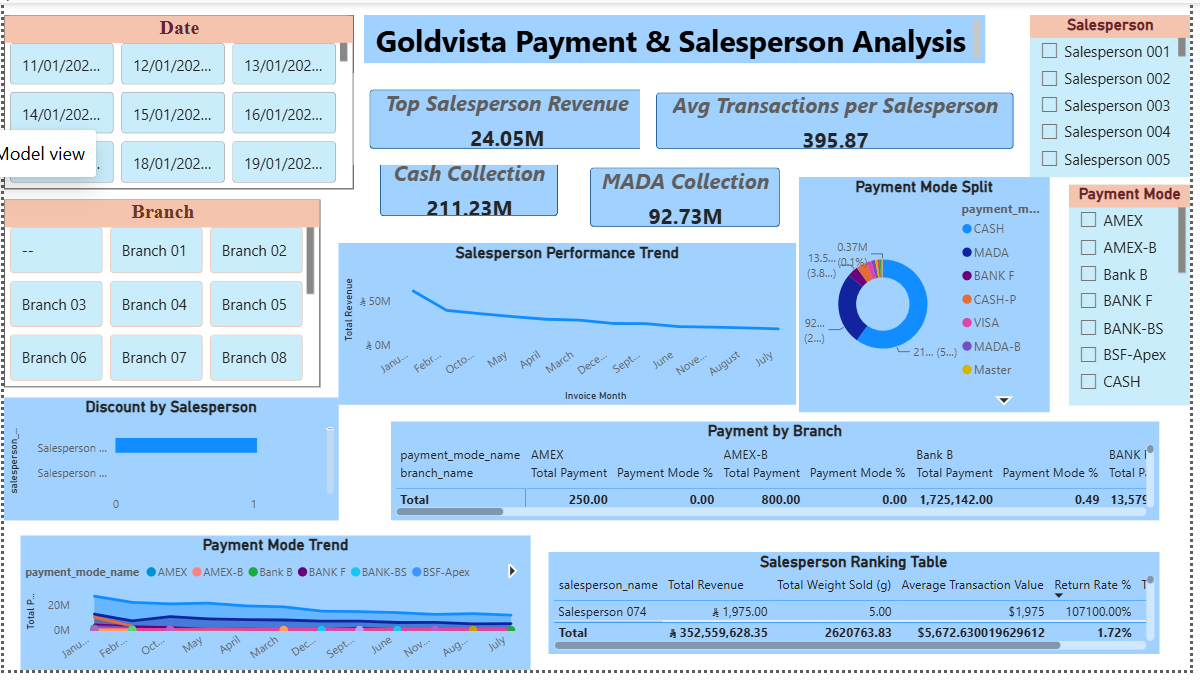

This screenshot's page, from the dashboard's own definition file:
{"tool":"powerbi","page":{"name":"Payment & Salesperson Analysis","canvas":[1280,720],"ordinal":5},"visuals":[{"type":"textbox","box":[388.6,13,670.4,51.8],"z":0},{"type":"donutChart","title":"Payment Mode Split","fields":{"Category":["public dim_payment_mode.payment_mode_name"],"Y":["Customer Purchase Distribution.Total Payment"]},"box":[858.2,187.8,270.4,254.2],"z":1000},{"type":"pivotTable","title":"Payment by Branch","fields":{"Rows":["public dim_branch.branch_name"],"Columns":["public dim_payment_mode.payment_mode_name"],"Values":["Customer Purchase Distribution.Total Payment","Customer First Purchase.Payment Mode %"]},"box":[417.8,451.8,829,106.9],"z":2000},{"type":"slicer","title":"Payment Mode","fields":{"Values":["public dim_payment_mode.payment_mode_name"]},"box":[1149.7,195.9,131.2,238],"z":3000},{"type":"areaChart","title":"Payment Mode Trend","fields":{"Series":["public dim_payment_mode.payment_mode_name"],"Y":["Customer Purchase Distribution.Total Payment"],"Category":["public fact_sales.Invoice Month"]},"box":[17.8,574.8,550.5,145.7],"z":4000},{"type":"tableEx","title":"Salesperson Ranking Table","fields":{"Values":["public dim_salesperson.salesperson_name","Date.Total Revenue","Date.Total Weight Sold (g)","Date.Average Transaction Value","Date.Return Rate %","Customer Purchase Distribution.Transaction Count"]},"box":[587.8,592.6,659,110.1],"z":5000},{"type":"lineChart","title":"Salesperson Performance Trend","fields":{"Y":["Date.Total Revenue"],"Category":["public fact_sales.Invoice Month"]},"box":[361.1,259.1,493.9,174.9],"z":6000},{"type":"clusteredBarChart","title":"Discount by Salesperson","fields":{"Y":["Customer Purchase Distribution.Average Discount %"],"Category":["public dim_salesperson.salesperson_name"]},"box":[0,425.9,361.1,132.8],"z":7000},{"type":"advancedSlicerVisual","title":"Branch","fields":{"Values":["public dim_branch.branch_name"]},"box":[0,212.1,341.7,202.4],"z":8000},{"type":"advancedSlicerVisual","fields":{"Values":["Date.Date"]},"box":[0,13,377.3,187.8],"z":9000},{"type":"slicer","title":"Salesperson","fields":{"Values":["public dim_salesperson.salesperson_name"]},"box":[1107.6,13,173.3,174.9],"z":10000},{"type":"cardVisual","fields":{"Data":["Customer Purchase Distribution.Cash Collection"]},"box":[388.6,153.8,226.7,93.9],"z":11000},{"type":"cardVisual","fields":{"Data":["Customer Purchase Distribution.MADA Collection"]},"box":[615.3,160.3,239.6,98.8],"z":12000},{"type":"cardVisual","fields":{"Data":["Customer Purchase Distribution.Top Salesperson Revenue"]},"box":[377.3,76.1,330.3,98.8],"z":13000},{"type":"cardVisual","fields":{"Data":["Customer Purchase Distribution.Avg Transactions per Salesperson"]},"box":[686.6,79.3,421,95.5],"z":14000}]}

Visuals, with their boxes on the page's 1280x720 design canvas (x1, y1, x2, y2). These are canvas units, not pixel positions in the 1200x681 screenshot, which may show the page scaled, cropped or inside an application window:
textbox: select_region(389, 13, 1059, 65)
"Payment Mode Split" donutChart: select_region(858, 188, 1129, 442)
"Payment by Branch" pivotTable: select_region(418, 452, 1247, 559)
"Payment Mode" slicer: select_region(1150, 196, 1281, 434)
"Payment Mode Trend" areaChart: select_region(18, 575, 568, 720)
"Salesperson Ranking Table" tableEx: select_region(588, 593, 1247, 703)
"Salesperson Performance Trend" lineChart: select_region(361, 259, 855, 434)
"Discount by Salesperson" clusteredBarChart: select_region(0, 426, 361, 559)
"Branch" advancedSlicerVisual: select_region(0, 212, 342, 414)
advancedSlicerVisual - Date.Date: select_region(0, 13, 377, 201)
"Salesperson" slicer: select_region(1108, 13, 1281, 188)
cardVisual - Customer Purchase Distribution.Cash Collection: select_region(389, 154, 615, 248)
cardVisual - Customer Purchase Distribution.MADA Collection: select_region(615, 160, 855, 259)
cardVisual - Customer Purchase Distribution.Top Salesperson Revenue: select_region(377, 76, 708, 175)
cardVisual - Customer Purchase Distribution.Avg Transactions per Salesperson: select_region(687, 79, 1108, 175)
